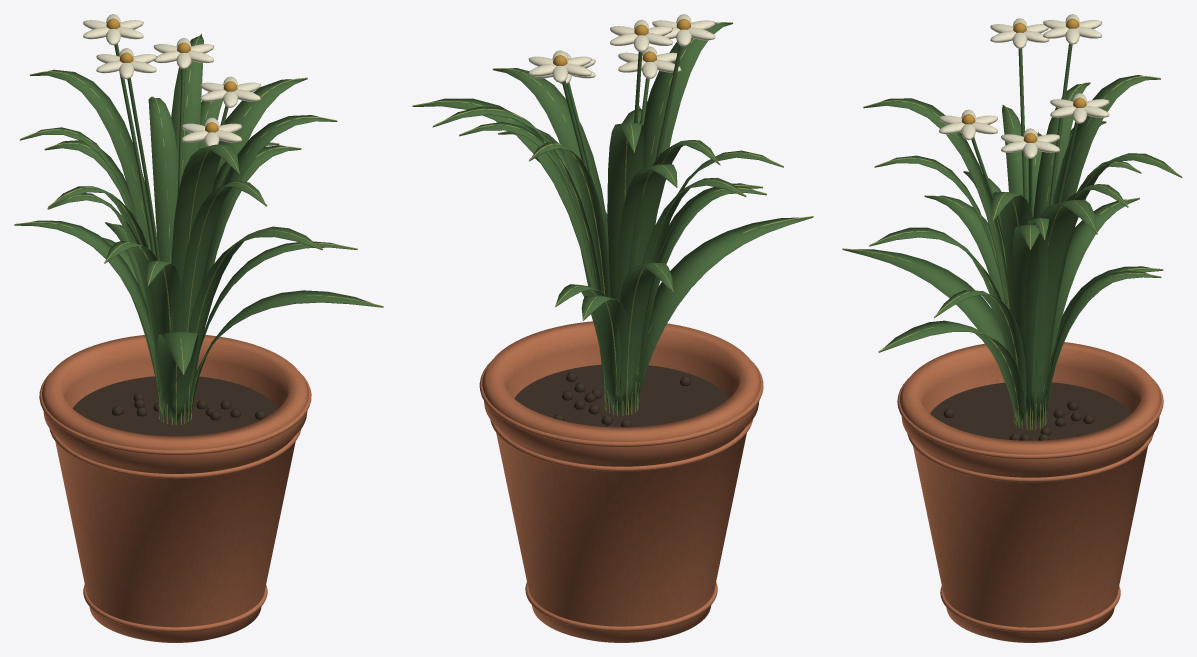
File: Planter.glb
3 renders of one model, left to right at view 1: azimuth 30°, elevation 25°; view 2: azimuth 150°, elevation 25°; view 3: azimuth 270°, elevation 25°, orthographic. The views are drawn at different scales.
Parts seen in each view (by area): view 1: Planter_NX_Terracotta, Planter_NX_Leaf, Planter_NX_Soil, Planter_NX_Petal, Planter_NX_LeafVein, Planter_NX_Pollen; view 2: Planter_NX_Terracotta, Planter_NX_Leaf, Planter_NX_Soil, Planter_NX_Petal, Planter_NX_LeafVein; view 3: Planter_NX_Terracotta, Planter_NX_Leaf, Planter_NX_Soil, Planter_NX_Petal, Planter_NX_LeafVein, Planter_NX_Pollen.
Boxes of the visible parts, <box> form: Planter_NX_Terracotta: <box>39,335,311,642</box>; Planter_NX_Leaf: <box>14,35,383,425</box>; Planter_NX_Soil: <box>72,376,278,436</box>; Planter_NX_Petal: <box>83,14,260,146</box>; Planter_NX_LeafVein: <box>14,34,383,424</box>; Planter_NX_Pollen: <box>106,18,237,132</box>; Planter_NX_Terracotta: <box>479,321,763,642</box>; Planter_NX_Leaf: <box>412,22,813,416</box>; Planter_NX_Soil: <box>514,364,728,427</box>; Planter_NX_Petal: <box>528,14,715,83</box>; Planter_NX_LeafVein: <box>412,22,813,415</box>; Planter_NX_Terracotta: <box>897,342,1163,642</box>; Planter_NX_Leaf: <box>842,43,1181,429</box>; Planter_NX_Soil: <box>930,382,1130,440</box>; Planter_NX_Petal: <box>939,14,1109,158</box>; Planter_NX_LeafVein: <box>842,76,1181,429</box>; Planter_NX_Pollen: <box>961,18,1086,142</box>.
Bounding box in the file's own units: 0.5591 × 1.02 × 0.5465.
Materials: 6 (1 with a texture image).
